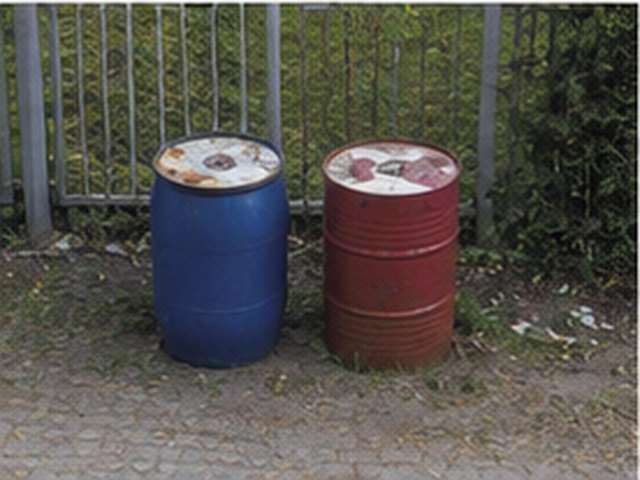container: (151, 133, 288, 366), (323, 140, 459, 368)
